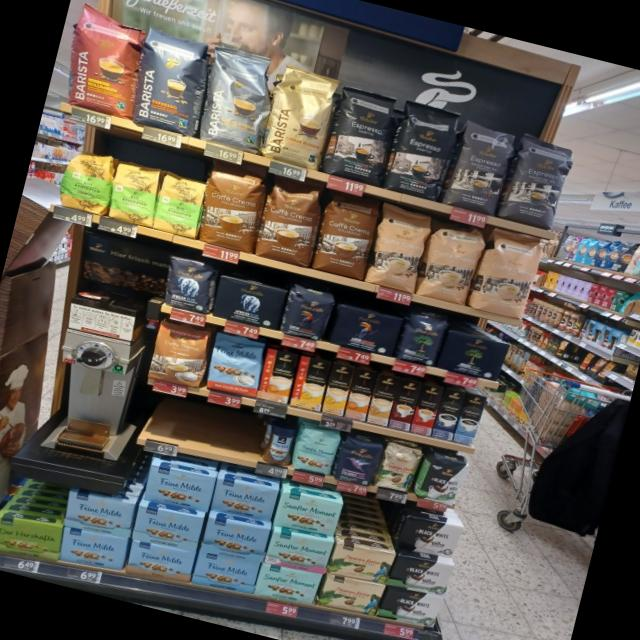Barista Kolumbien: (54, 0, 154, 120)
